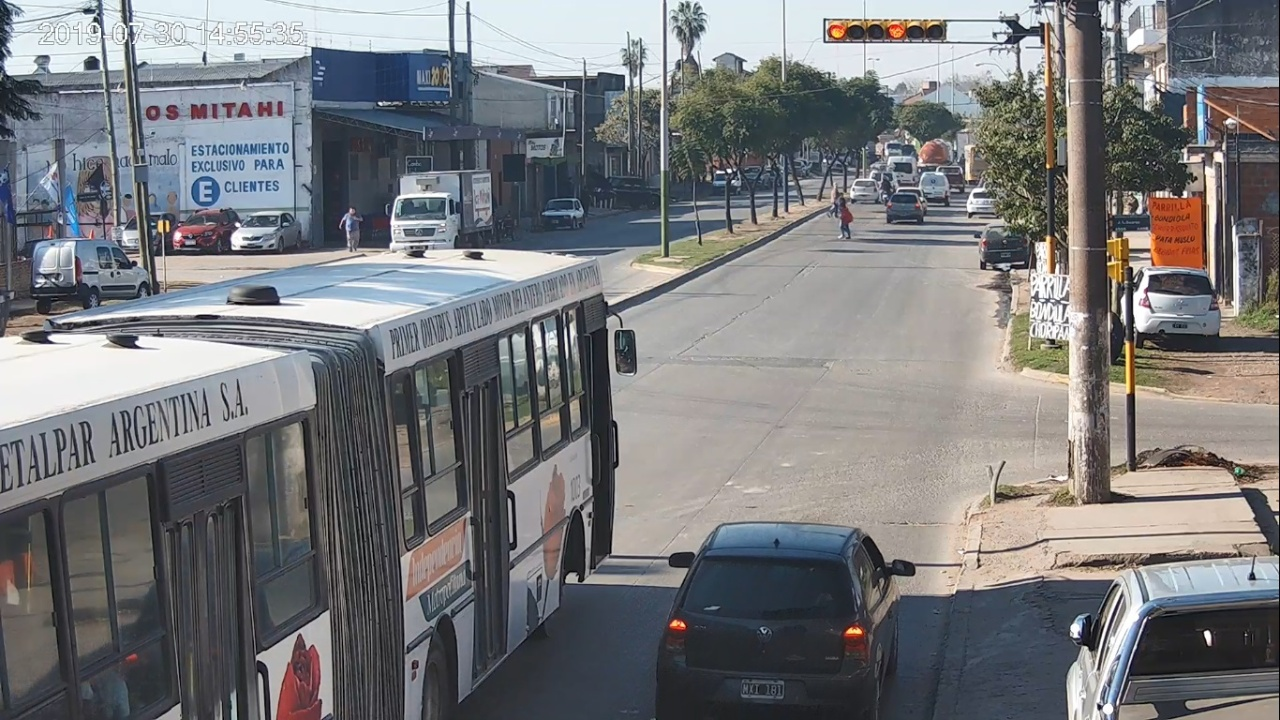bus: (1, 251, 638, 720)
car: (656, 524, 916, 720)
traffic light: (827, 17, 947, 42)
